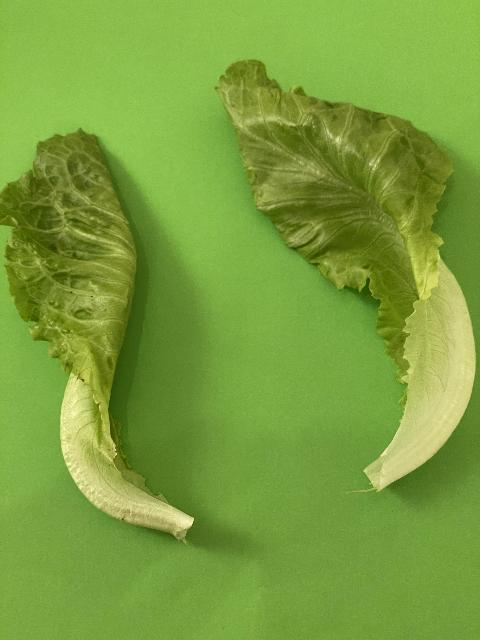lettuce: (212, 58, 480, 492), (0, 122, 196, 544)
